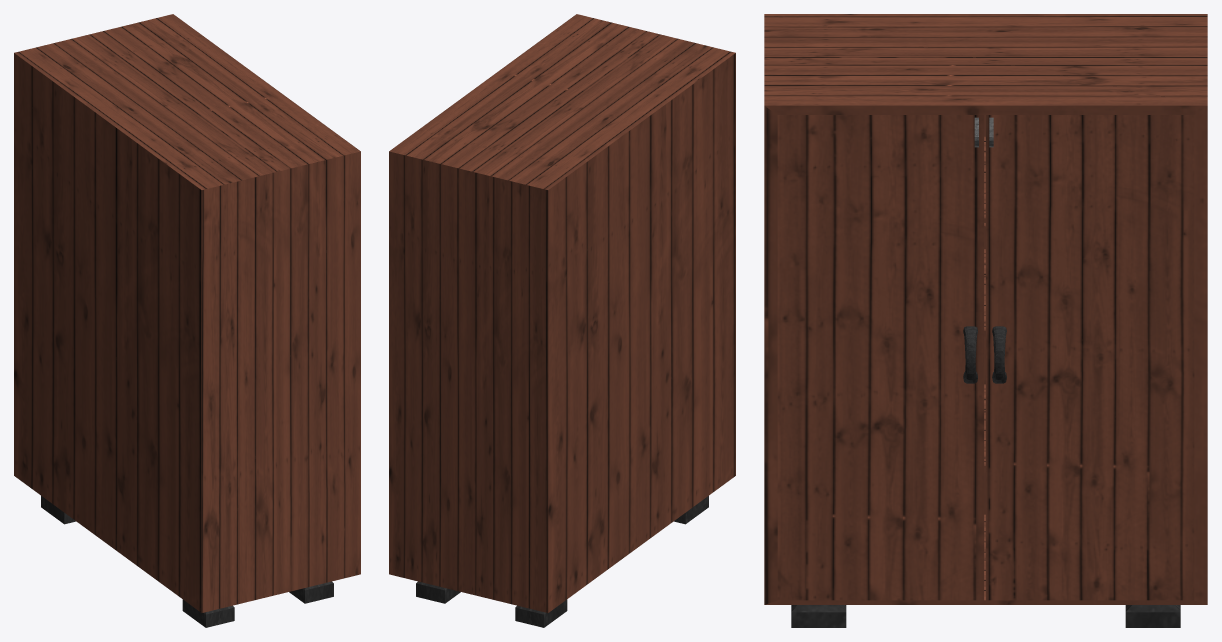
Rendered from smallwardrobe.fbx.
3 views of the same model, side by side, from view 1: azimuth 30°, elevation 25°; view 2: azimuth 150°, elevation 25°; view 3: azimuth 270°, elevation 25° (orthographic). The views are drawn at different scales.
Parts seen in each view (by area): view 1: Main; view 2: Main; view 3: DoorRight, DoorLeft, Main, LeftHandle, RightHandle.
Boxes of the visible parts, x1=… form: Main: x1=14, y1=14, x2=360, y2=627; Main: x1=389, y1=14, x2=735, y2=627; DoorRight: x1=986, y1=115, x2=1194, y2=600; DoorLeft: x1=777, y1=115, x2=983, y2=600; Main: x1=764, y1=14, x2=1207, y2=627; LeftHandle: x1=963, y1=326, x2=977, y2=383; RightHandle: x1=992, y1=326, x2=1006, y2=383.
Bounding box in the file's own units: 2.69 × 6.65 × 5.03.
